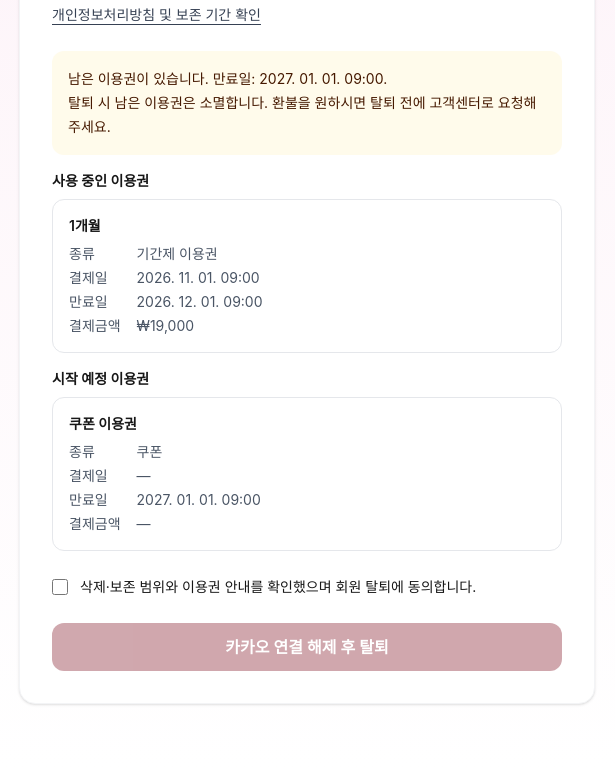
Test case: shows RS-ACC-001, preserves session and requires a new confirmation
Expected: the text "1개월" is shown, [69, 217, 101, 234]
Click the checkbox.
click(60, 587)  # box [52, 579, 68, 595]
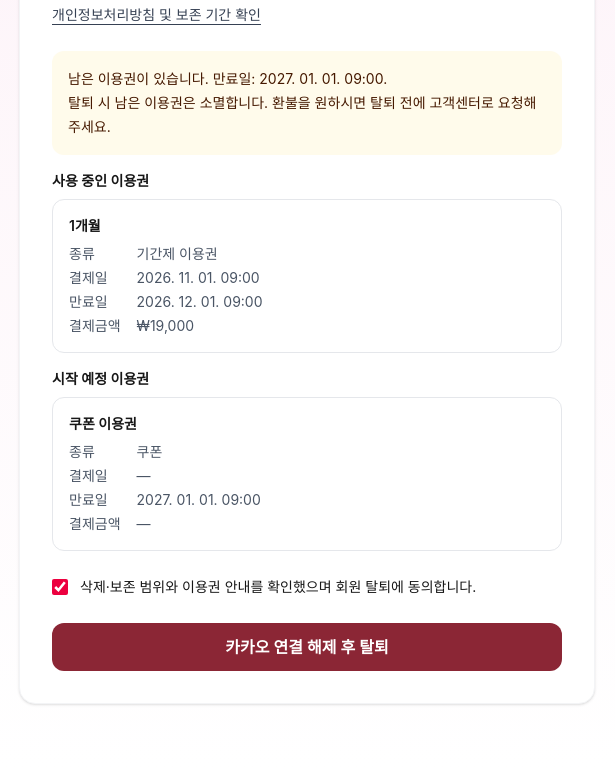
Click the button "카카오 연결 해제 후 탈퇴".
click(307, 647)  # box [52, 623, 562, 671]
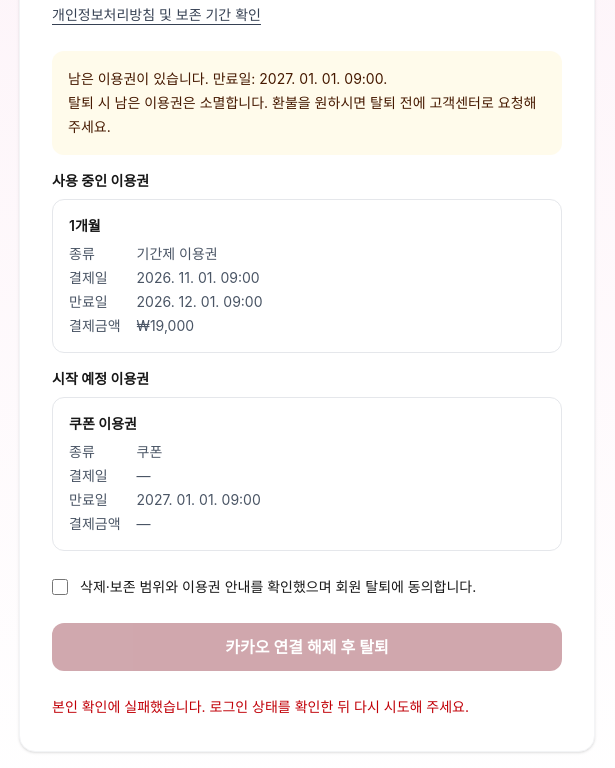
Expected: the message shows "본인 확인에 실패", [52, 698, 469, 715]
Expected: the checkbox is not checked, [52, 579, 68, 595]
